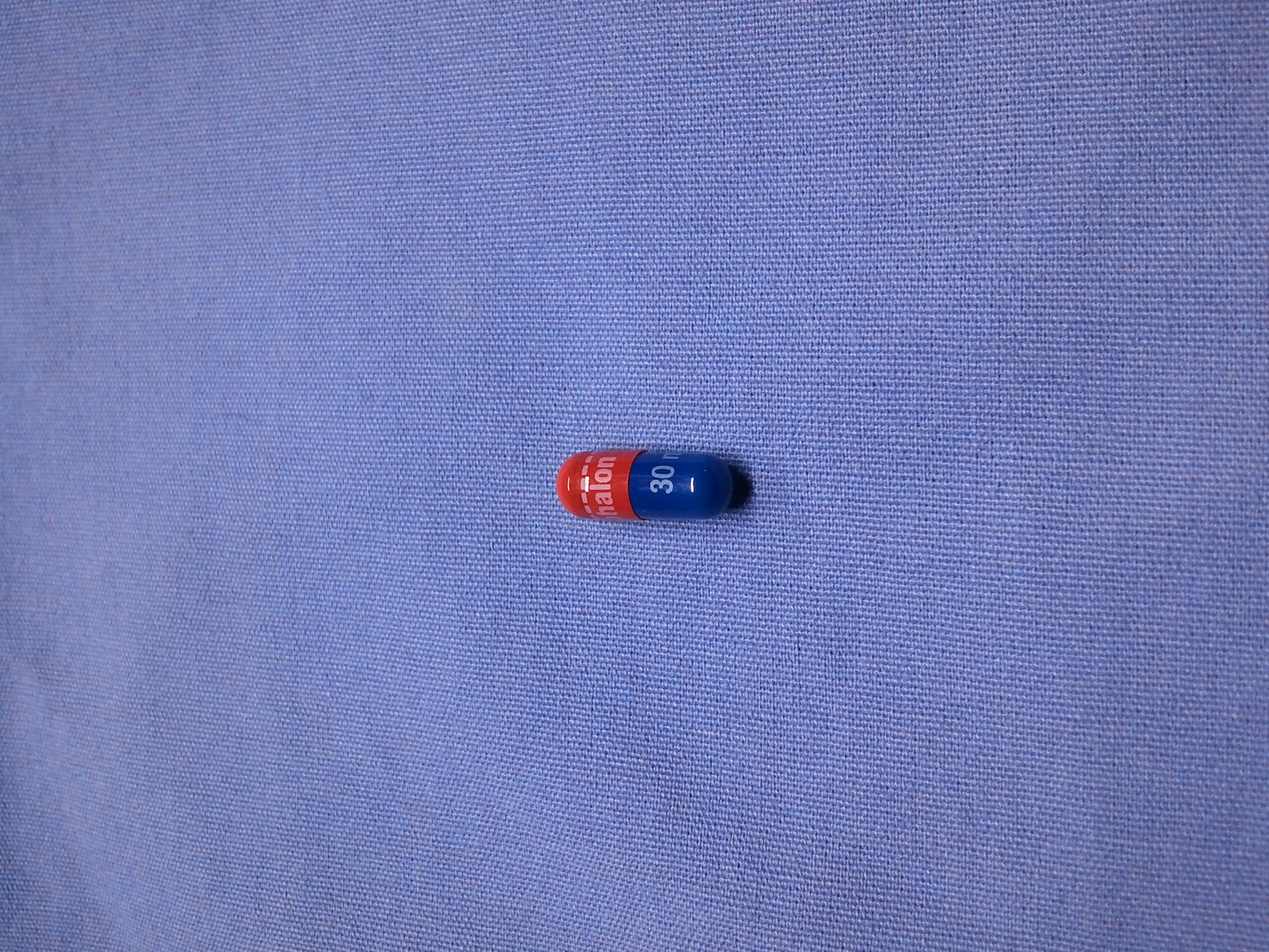Pill: (544, 441, 759, 530)
